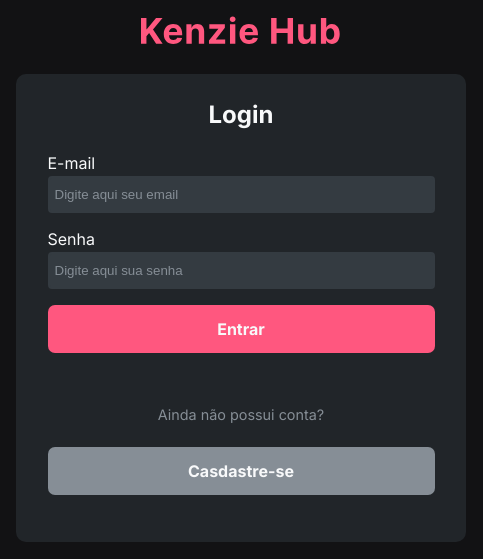
Scenario: Login page › To able not to signIn, credentials invalid
This screenshot has width=483, height=559.
Type "johndoe" into the field with placeholder "Digite aqui seu email". click: coordinates (241, 195)
box: x1=48 y1=176 x2=434 y2=213
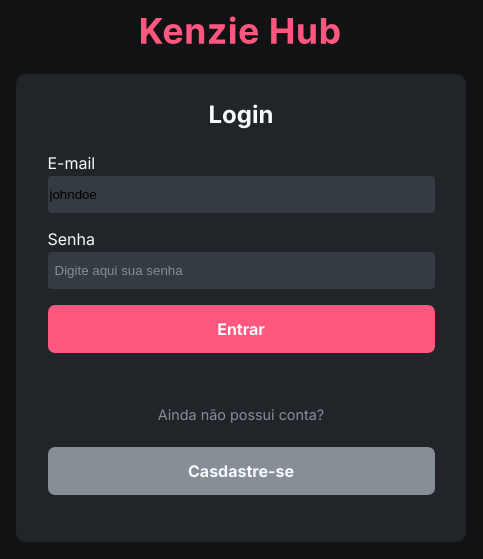
Type "1234" into the password field with placeholder "Digite aqui sua senha". click: coordinates (241, 271)
box: x1=48 y1=252 x2=434 y2=289
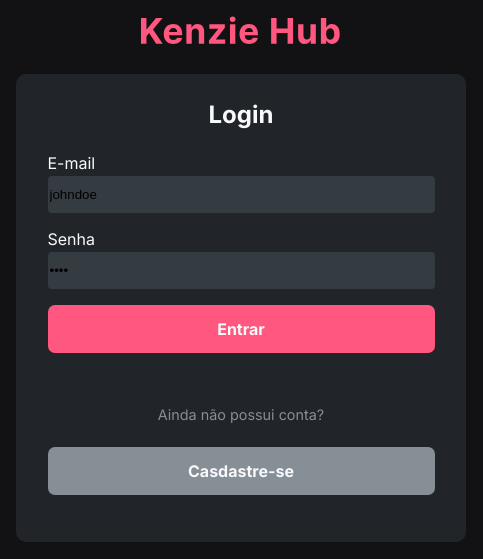
Click the button "Entrar". click: coordinates (241, 329)
box: x1=48 y1=305 x2=434 y2=353
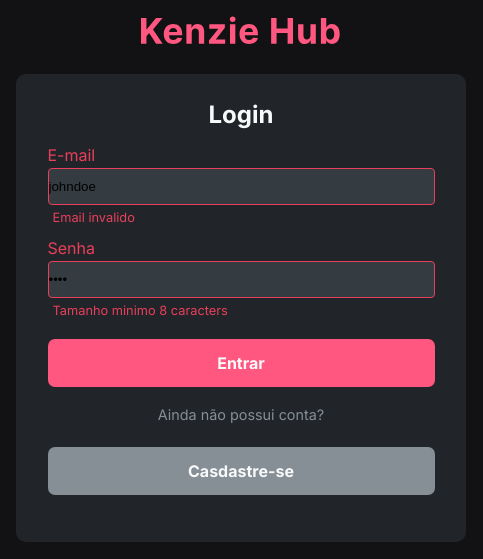
Result: the text "Email invalido" is shown at x1=52 y1=210 x2=135 y2=225
Result: the text "Tamanho minimo 8 caracters" is shown at x1=52 y1=303 x2=228 y2=318
